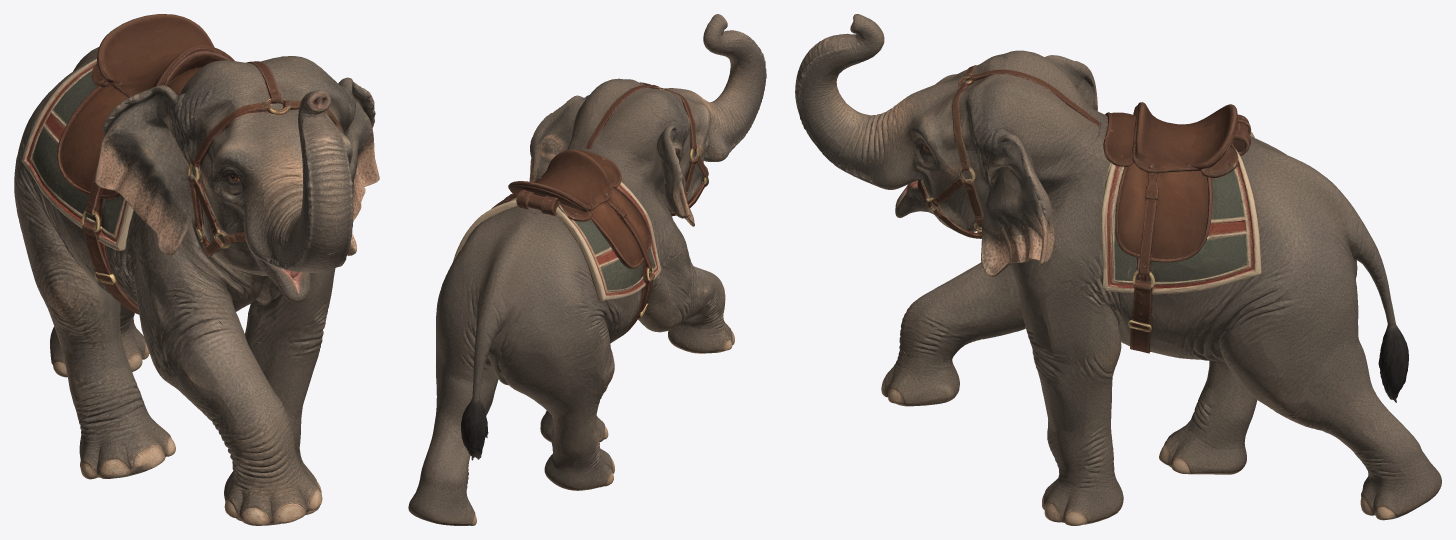
The model's file is elephant.glb.
3 renders of one model, left to right at view 1: azimuth 30°, elevation 25°; view 2: azimuth 150°, elevation 25°; view 3: azimuth 270°, elevation 25°, orthographic. The views are drawn at different scales.
Size of the model in its own units: 0.7613 by 1.5 by 1.9.
Materials: 1 (1 with a texture image).
